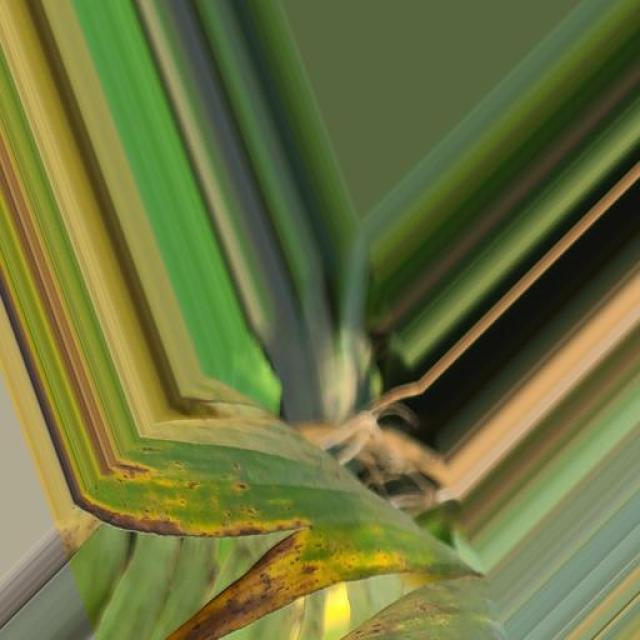Early_rust: (73, 318, 469, 640)
